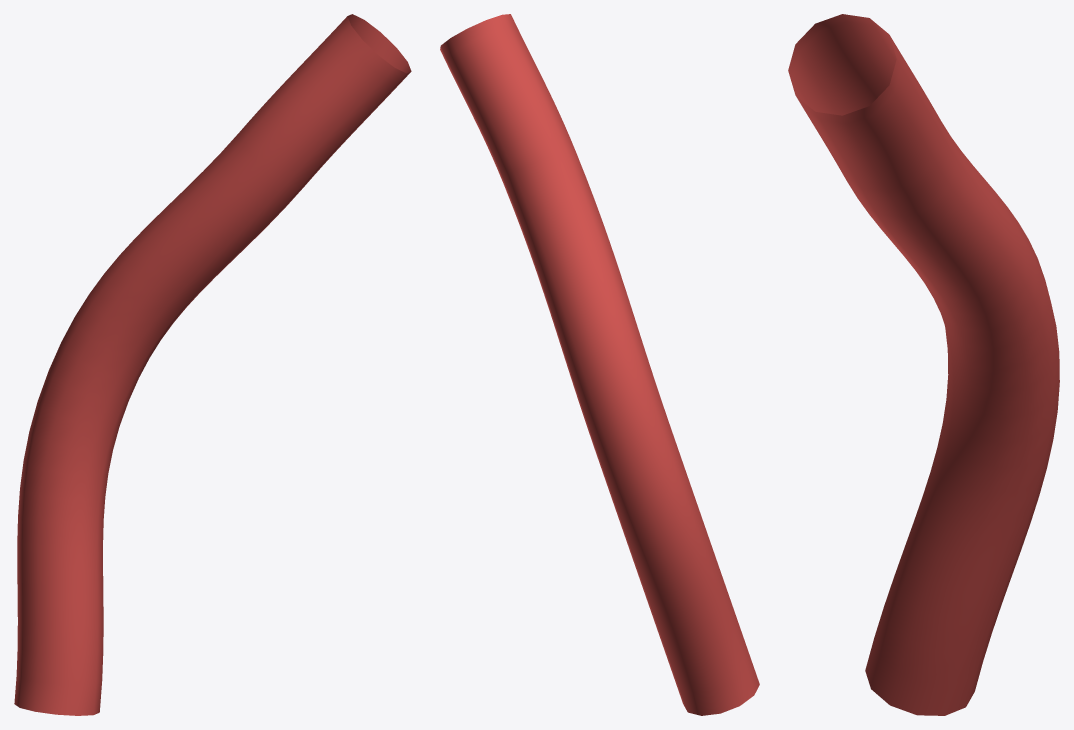
3 views of the same model, side by side, from view 1: azimuth 30°, elevation 25°; view 2: azimuth 150°, elevation 25°; view 3: azimuth 270°, elevation 25° (orthographic). The views are drawn at different scales.
Visible parts, largest first — view 1: 右侧后交通动脉; view 2: 右侧后交通动脉; view 3: 右侧后交通动脉.
Boxes of the visible parts, x1,y1,x2,y2 form: 右侧后交通动脉: [14, 14, 411, 715]; 右侧后交通动脉: [440, 14, 759, 715]; 右侧后交通动脉: [788, 14, 1059, 715].
Bounding box in the file's own units: 0.0106 × 0.0185 × 0.00536.
